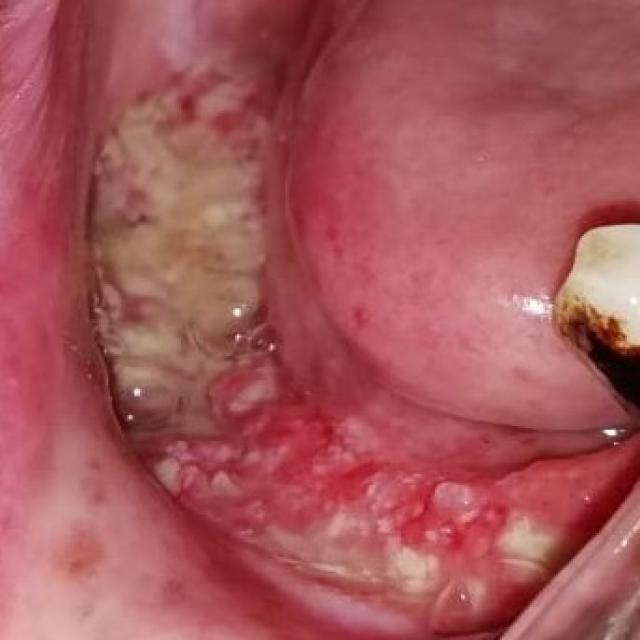Cancer: (129, 386, 628, 630), (93, 52, 275, 419)
